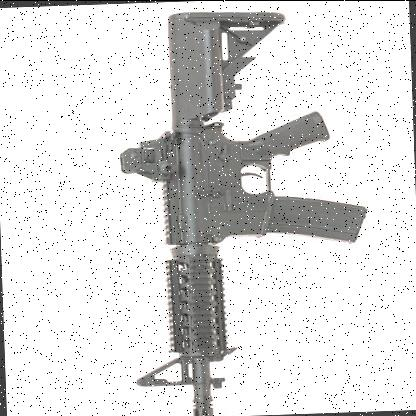rifle: (123, 1, 384, 416)
